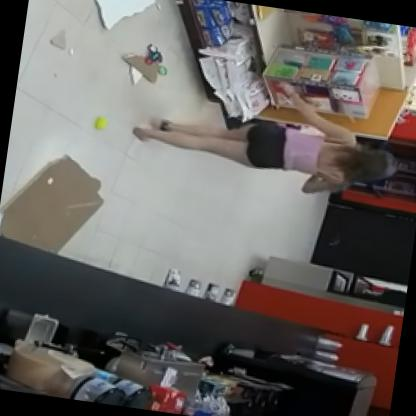Human Body: (125, 60, 402, 204)
